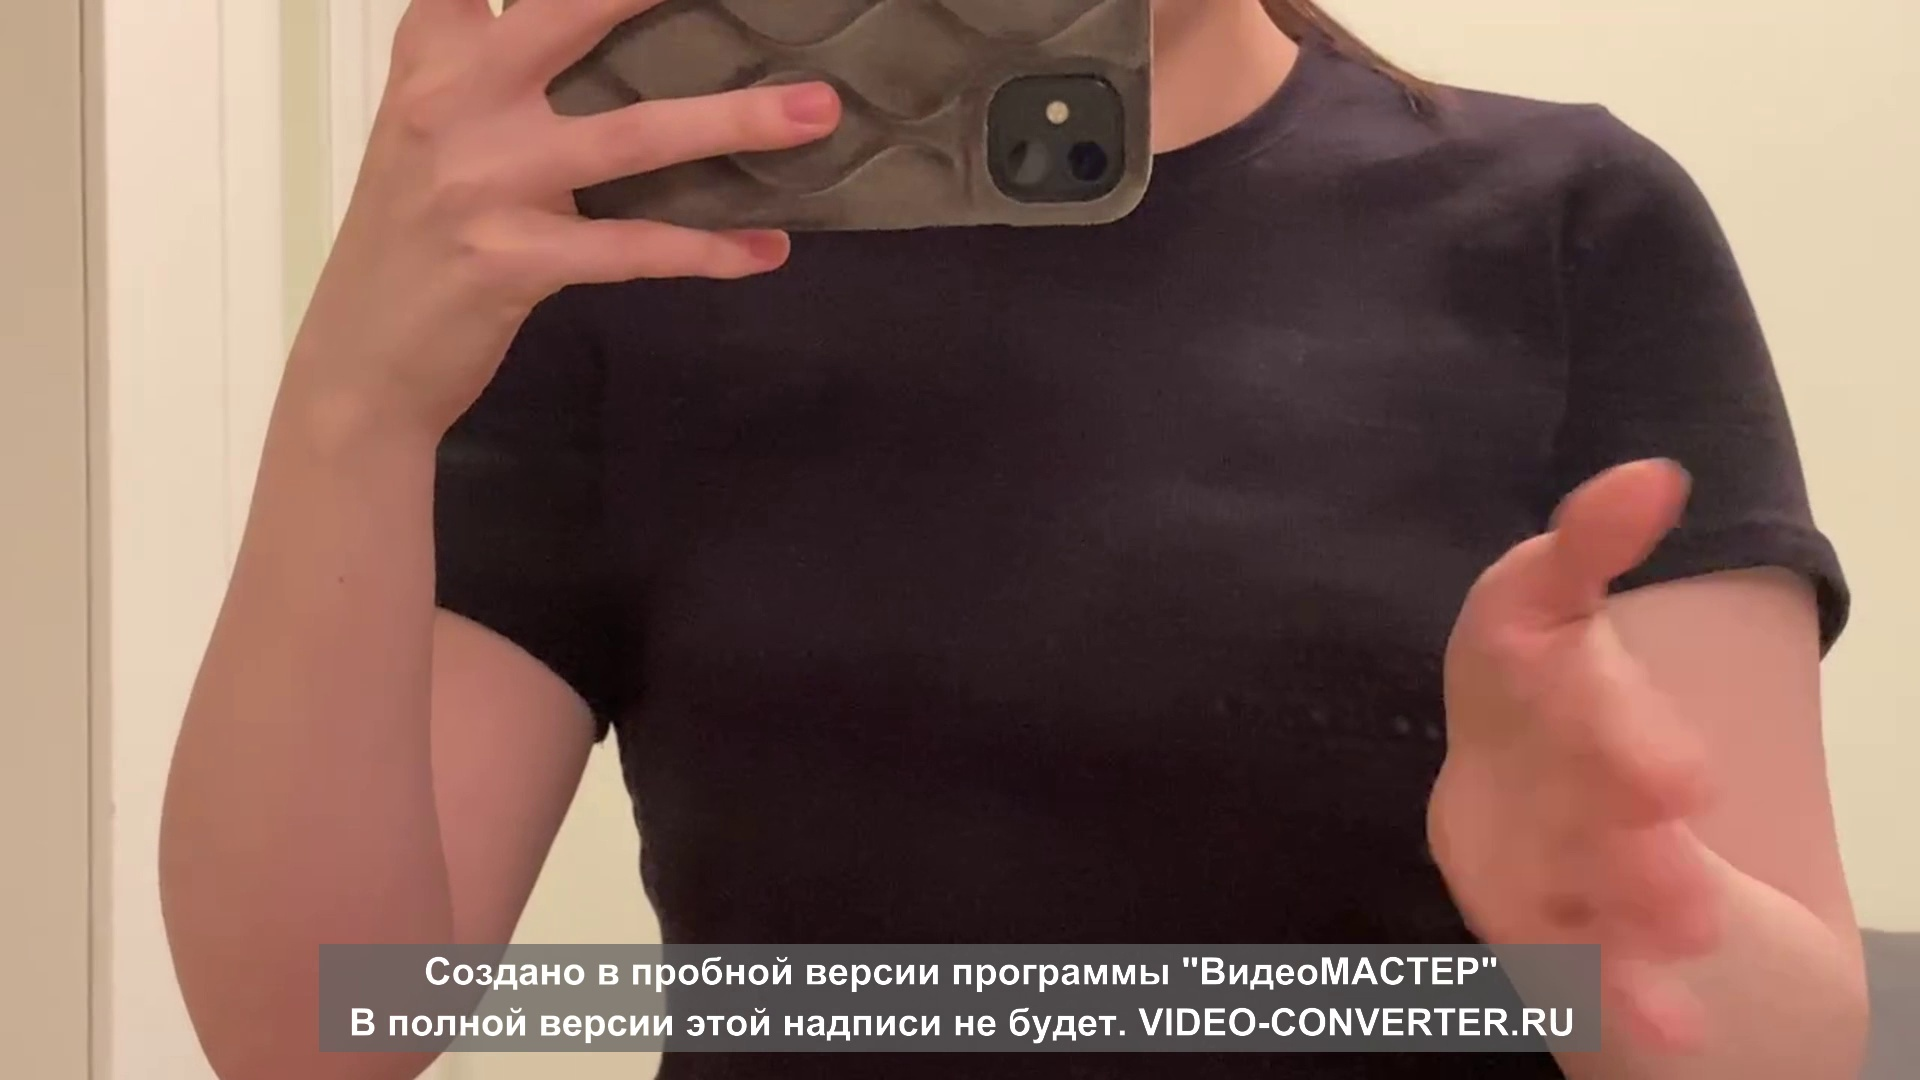Ладонь: (1425, 454, 1721, 1055)
